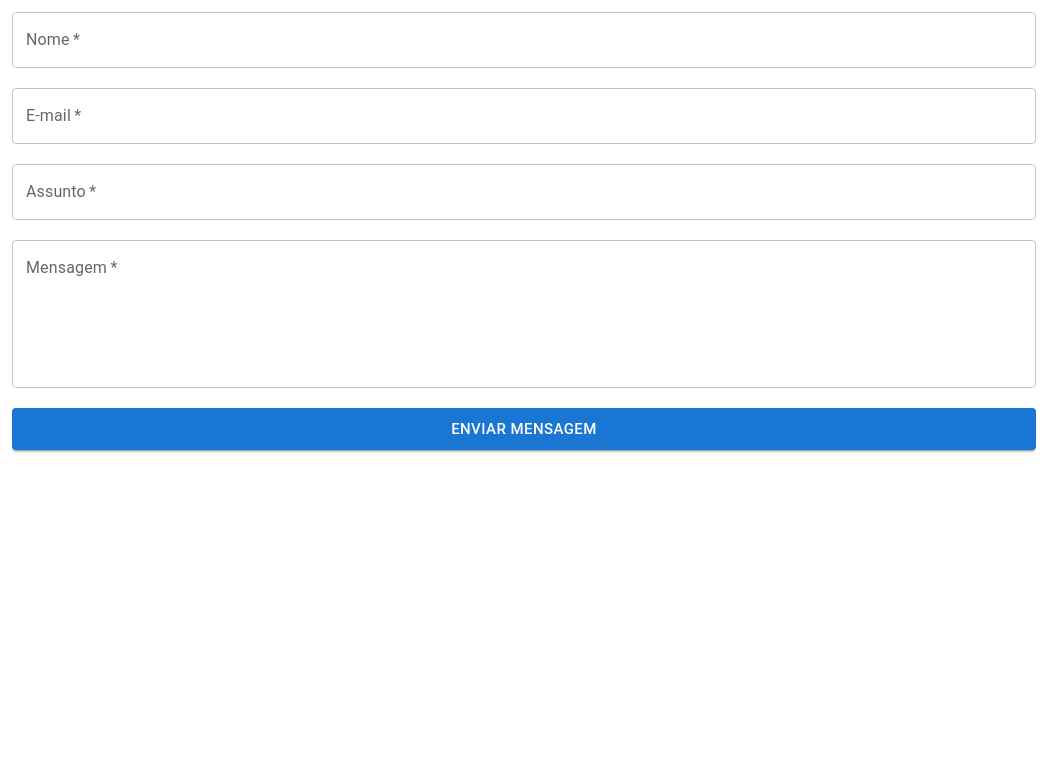
Test: ContactForm › validation › shows error for invalid email
In the field labelled "E-mail *": [524, 116] box [12,88,1036,144], type "not-an-email"
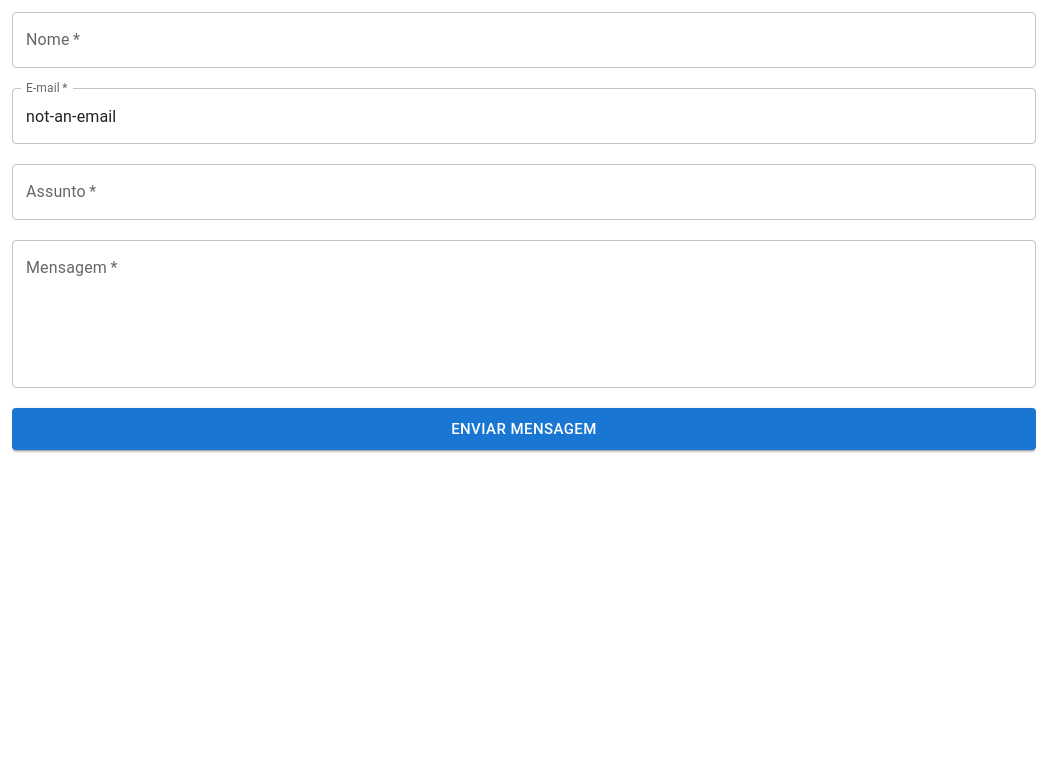
Click the button "Enviar mensagem": [524, 429] box [12,408,1036,450]
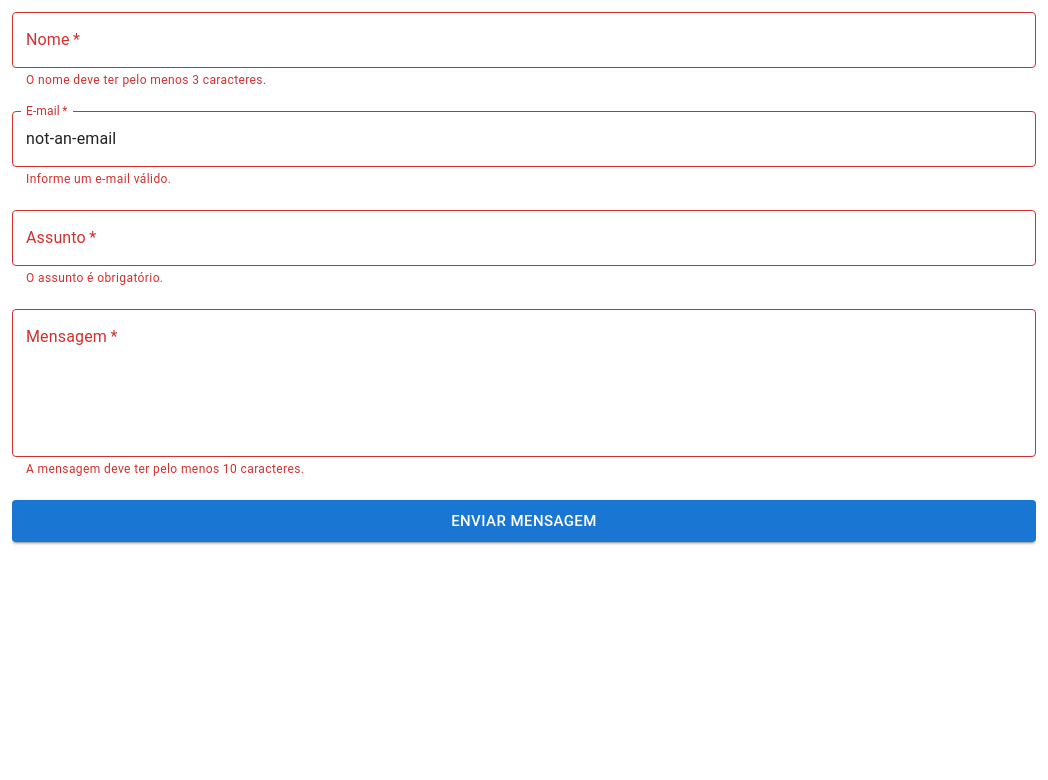
Expected: the text "Informe um e-mail válido." is shown, [26,172,171,186]
